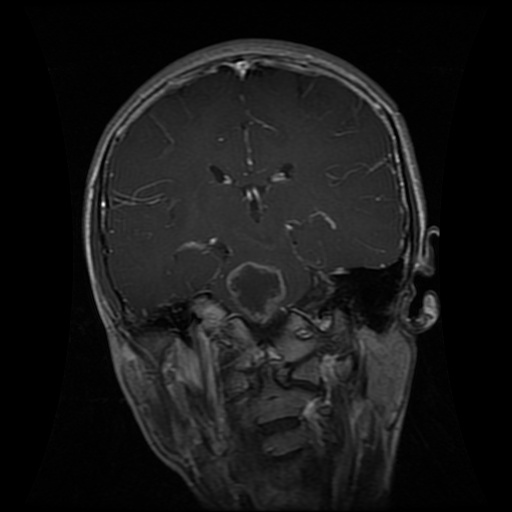glioma: (222, 258, 287, 323)
